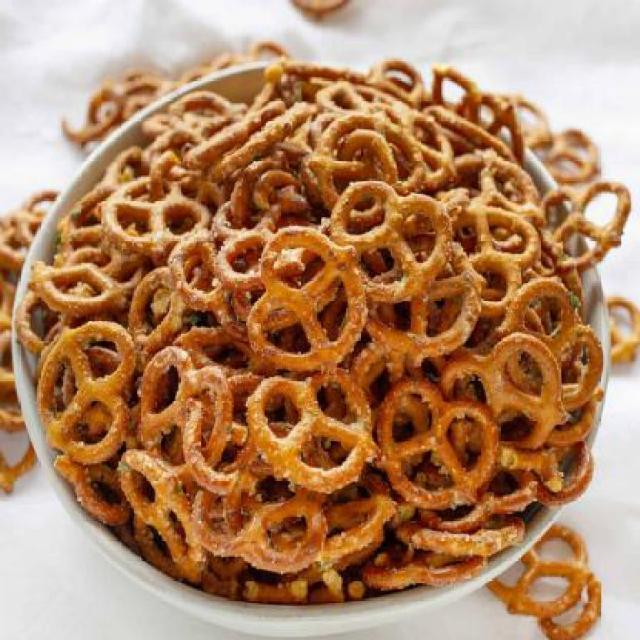Salatini packaged: (40, 66, 609, 585)
